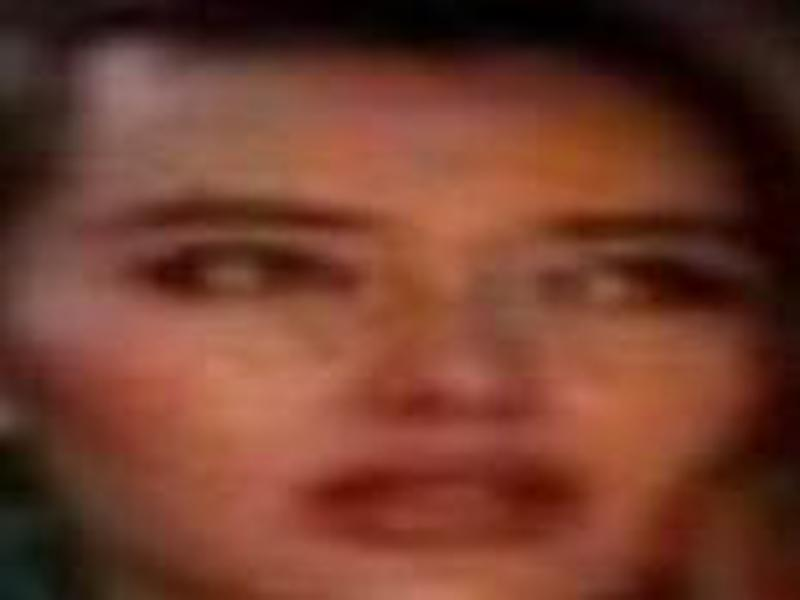without_mask: (26, 84, 770, 600)
